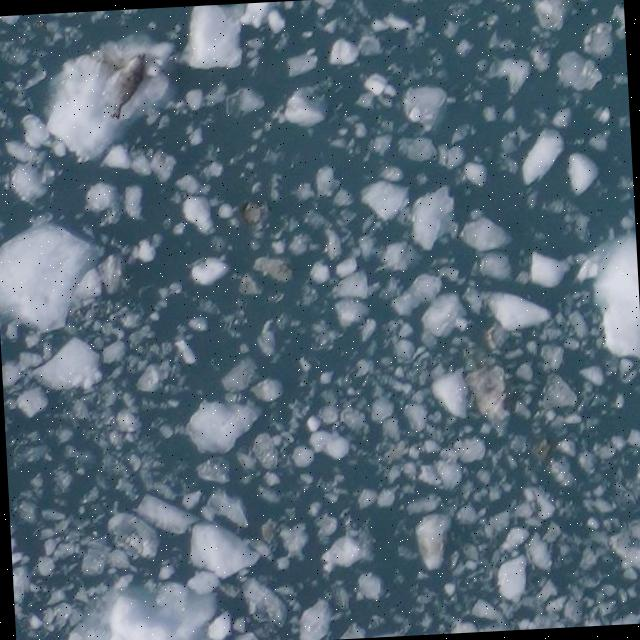seal: (112, 54, 146, 119)
